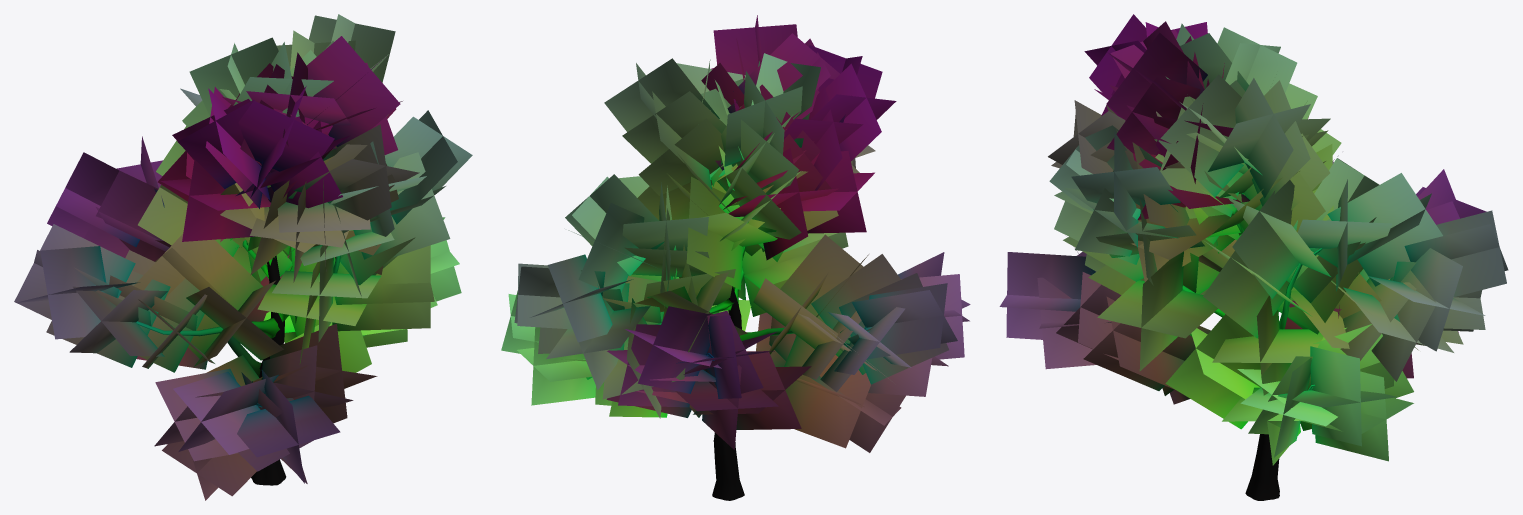
The model's file is URP_P11_Tree_3_LOD_1.fbx.
The picture shows the model from 3 angles, left to right: view 1: azimuth 30°, elevation 25°; view 2: azimuth 150°, elevation 25°; view 3: azimuth 270°, elevation 25°; orthographic projection. The views are drawn at different scales.
Visible parts, largest first — view 1: Tree_3_LOD_1; view 2: Tree_3_LOD_1; view 3: Tree_3_LOD_1.
Boxes of the visible parts, x1,y1,x2,y2 form: Tree_3_LOD_1: [14, 14, 472, 500]; Tree_3_LOD_1: [501, 15, 970, 500]; Tree_3_LOD_1: [999, 14, 1508, 500].
Bounding box in the file's own units: 585 × 592 × 580.
